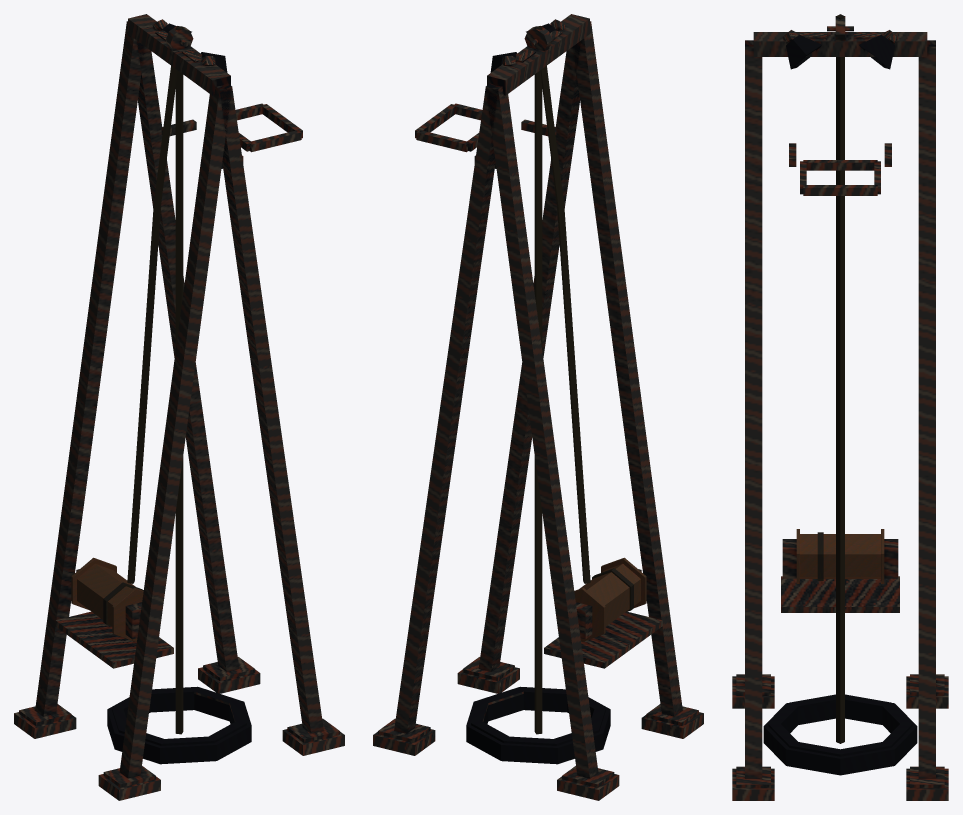
Rendered from derrick_lod2.glb.
3 views of the same model, side by side, from view 1: azimuth 30°, elevation 25°; view 2: azimuth 150°, elevation 25°; view 3: azimuth 270°, elevation 25° (orthographic). The views are drawn at different scales.
Parts seen in each view (by area): view 1: LOD2_derrick, LOD2_cable, LOD2_drum; view 2: LOD2_derrick, LOD2_cable, LOD2_drum; view 3: LOD2_derrick, LOD2_cable, LOD2_drum, LOD2_lamp_L, LOD2_lamp_R.
Boxes of the visible parts, x1=… form: LOD2_derrick: x1=14, y1=14, x2=344, y2=800; LOD2_cable: x1=103, y1=26, x2=183, y2=734; LOD2_drum: x1=71, y1=557, x2=143, y2=641; LOD2_derrick: x1=373, y1=14, x2=703, y2=800; LOD2_cable: x1=534, y1=26, x2=633, y2=734; LOD2_drum: x1=574, y1=557, x2=646, y2=641; LOD2_derrick: x1=732, y1=16, x2=948, y2=800; LOD2_cable: x1=817, y1=14, x2=844, y2=743; LOD2_drum: x1=796, y1=529, x2=884, y2=583; LOD2_lamp_L: x1=854, y1=30, x2=898, y2=69; LOD2_lamp_R: x1=782, y1=30, x2=826, y2=69.
Size of the model in its own units: 2.16 by 6.47 by 1.74.
2 materials, 2 textured.
